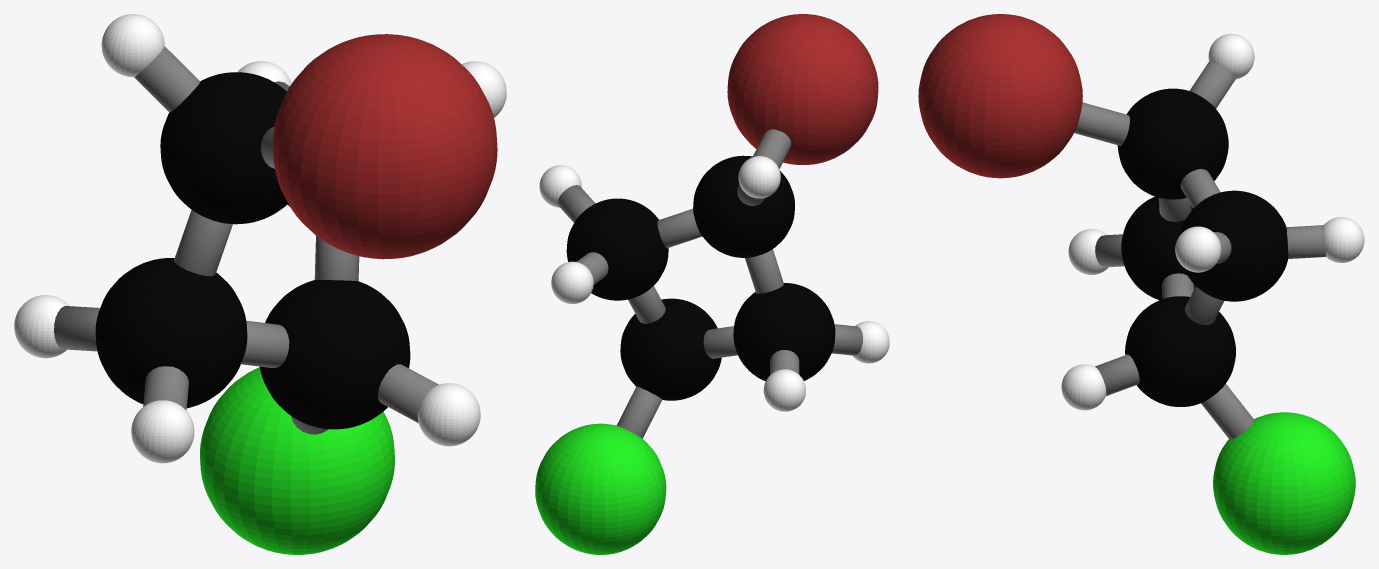
Rendered from CLOROCICLOBUTANO.obj.
3 renders of one model, left to right at view 1: azimuth 30°, elevation 25°; view 2: azimuth 150°, elevation 25°; view 3: azimuth 270°, elevation 25°, orthographic. The views are drawn at different scales.
Parts seen in each view (by area): view 1: Carbon_ball_Sphere.002, Bromine_ball_Sphere.003, Chlorine_ball_Sphere.001, Hydrogen_ball_Sphere, Stick_Cylinder.010_Cylinder.010, Stick_Cylinder.007_Cylinder.007, Stick_Cylinder_Cylinder, Stick_Cylinder.006_Cylinder.006, Stick_Cylinder.008_Cylinder.008, Stick_Cylinder.009_Cylinder.009, Stick_Cylinder.002_Cylinder.002; view 2: Carbon_ball_Sphere.002, Bromine_ball_Sphere.003, Chlorine_ball_Sphere.001, Hydrogen_ball_Sphere, Stick_Cylinder.001_Cylinder.001, Stick_Cylinder.003_Cylinder.003, Stick_Cylinder.010_Cylinder.010, Stick_Cylinder.006_Cylinder.006, Stick_Cylinder.011_Cylinder.011, Stick_Cylinder.002_Cylinder.002, Stick_Cylinder.009_Cylinder.009, Stick_Cylinder.004_Cylinder.004 (+2 smaller); view 3: Carbon_ball_Sphere.002, Bromine_ball_Sphere.003, Chlorine_ball_Sphere.001, Hydrogen_ball_Sphere, Stick_Cylinder.011_Cylinder.011, Stick_Cylinder.001_Cylinder.001, Stick_Cylinder.005_Cylinder.005, Stick_Cylinder.007_Cylinder.007, Stick_Cylinder_Cylinder, Stick_Cylinder.003_Cylinder.003, Stick_Cylinder.002_Cylinder.002, Stick_Cylinder.009_Cylinder.009 (+2 smaller).
Part boxes in pixels (x1,y1,x2,y2): Carbon_ball_Sphere.002: [95, 72, 410, 429]; Bromine_ball_Sphere.003: [272, 34, 497, 259]; Chlorine_ball_Sphere.001: [200, 367, 394, 554]; Hydrogen_ball_Sphere: [14, 14, 506, 463]; Stick_Cylinder.010_Cylinder.010: [174, 210, 232, 276]; Stick_Cylinder.007_Cylinder.007: [134, 46, 200, 112]; Stick_Cylinder_Cylinder: [378, 364, 438, 422]; Stick_Cylinder.006_Cylinder.006: [241, 320, 289, 368]; Stick_Cylinder.008_Cylinder.008: [53, 306, 99, 351]; Stick_Cylinder.009_Cylinder.009: [143, 366, 188, 410]; Stick_Cylinder.002_Cylinder.002: [314, 236, 359, 281]; Carbon_ball_Sphere.002: [566, 155, 835, 400]; Bromine_ball_Sphere.003: [727, 14, 878, 164]; Chlorine_ball_Sphere.001: [535, 423, 666, 554]; Hydrogen_ball_Sphere: [539, 156, 889, 411]; Stick_Cylinder.001_Cylinder.001: [616, 386, 662, 438]; Stick_Cylinder.003_Cylinder.003: [657, 208, 702, 248]; Stick_Cylinder.010_Cylinder.010: [745, 249, 783, 293]; Stick_Cylinder.006_Cylinder.006: [703, 326, 737, 358]; Stick_Cylinder.011_Cylinder.011: [753, 129, 791, 168]; Stick_Cylinder.002_Cylinder.002: [628, 286, 665, 323]; Stick_Cylinder.009_Cylinder.009: [832, 324, 862, 355]; Stick_Cylinder.004_Cylinder.004: [557, 185, 595, 222]; Carbon_ball_Sphere.002: [1117, 88, 1288, 406]; Bromine_ball_Sphere.003: [918, 14, 1082, 178]; Chlorine_ball_Sphere.001: [1213, 412, 1355, 554]; Hydrogen_ball_Sphere: [1061, 33, 1364, 410]; Stick_Cylinder.011_Cylinder.011: [1074, 102, 1129, 145]; Stick_Cylinder.001_Cylinder.001: [1201, 384, 1254, 439]; Stick_Cylinder.005_Cylinder.005: [1286, 225, 1325, 258]; Stick_Cylinder.007_Cylinder.007: [1189, 61, 1235, 108]; Stick_Cylinder_Cylinder: [1095, 354, 1139, 396]; Stick_Cylinder.003_Cylinder.003: [1180, 169, 1220, 208]; Stick_Cylinder.002_Cylinder.002: [1185, 286, 1224, 324]; Stick_Cylinder.009_Cylinder.009: [1095, 234, 1124, 267].
Bounding box in the file's own units: 4.63 × 6.73 × 5.57.
